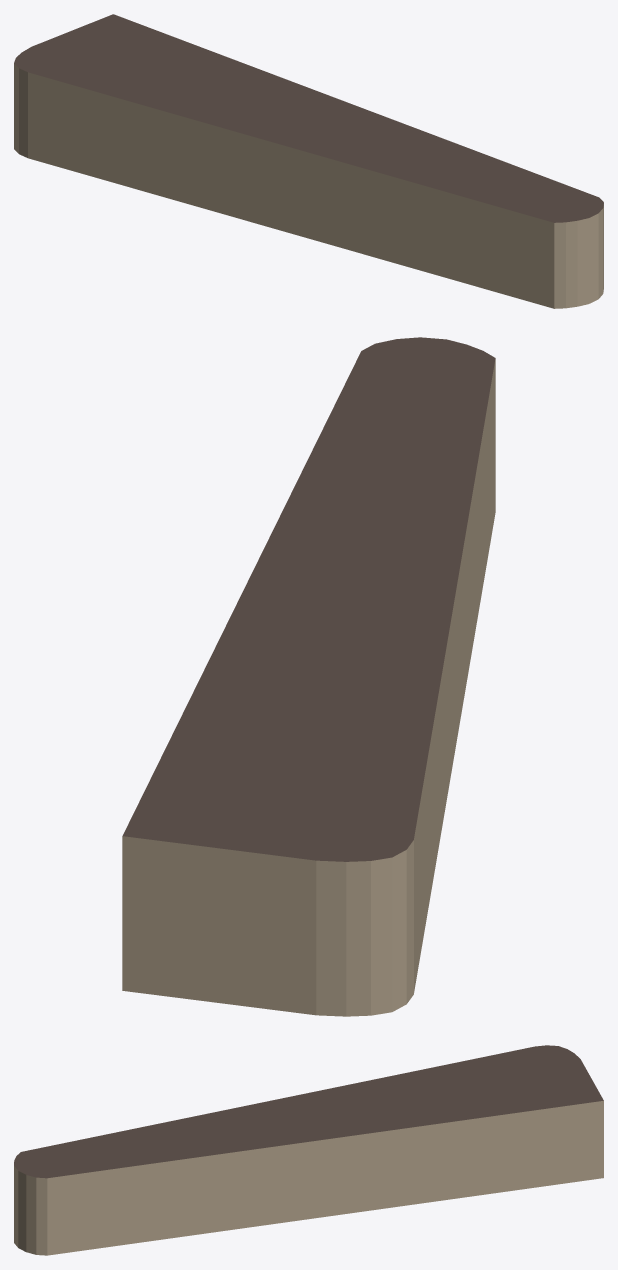
3 views of the same model, one above another, from view 1: azimuth 30°, elevation 25°; view 2: azimuth 150°, elevation 25°; view 3: azimuth 270°, elevation 25° (orthographic). The views are drawn at different scales.
Visible parts, largest first — view 1: HP-w449064151; view 2: HP-w449064151; view 3: HP-w449064151.
Boxes of the visible parts, <box> form: HP-w449064151: <box>14,14,603,308</box>; HP-w449064151: <box>122,337,495,1016</box>; HP-w449064151: <box>14,1045,603,1255</box>.
Bounding box in the file's own units: 33.18 × 9 × 62.21.
